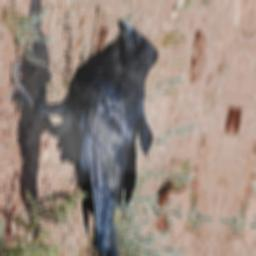Crow: (0, 4, 174, 256)
